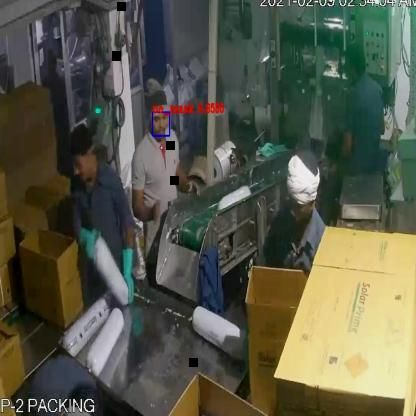glove: (112, 241, 145, 312), (68, 211, 102, 276)
no_glove: (125, 178, 170, 230), (322, 124, 358, 176), (166, 158, 202, 204)
